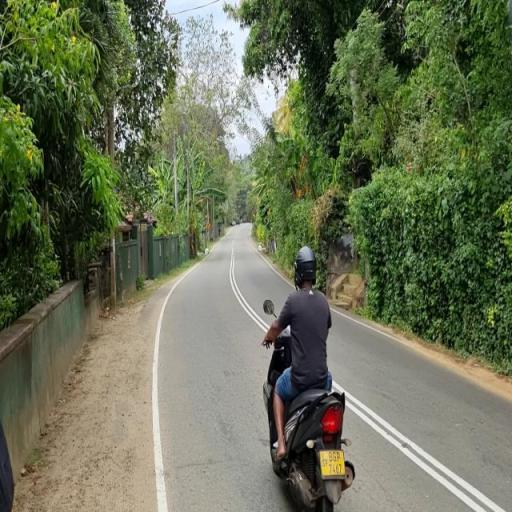double_white_line: (331, 381, 506, 512)
